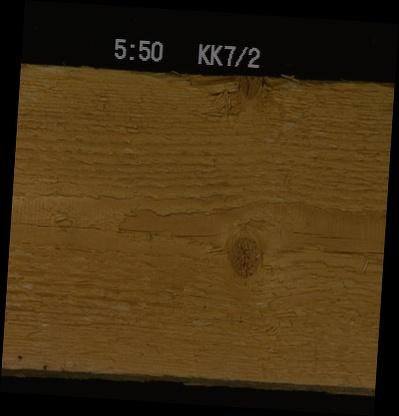split: (10, 221, 101, 228), (313, 233, 360, 241)
wave: (141, 73, 335, 91)
